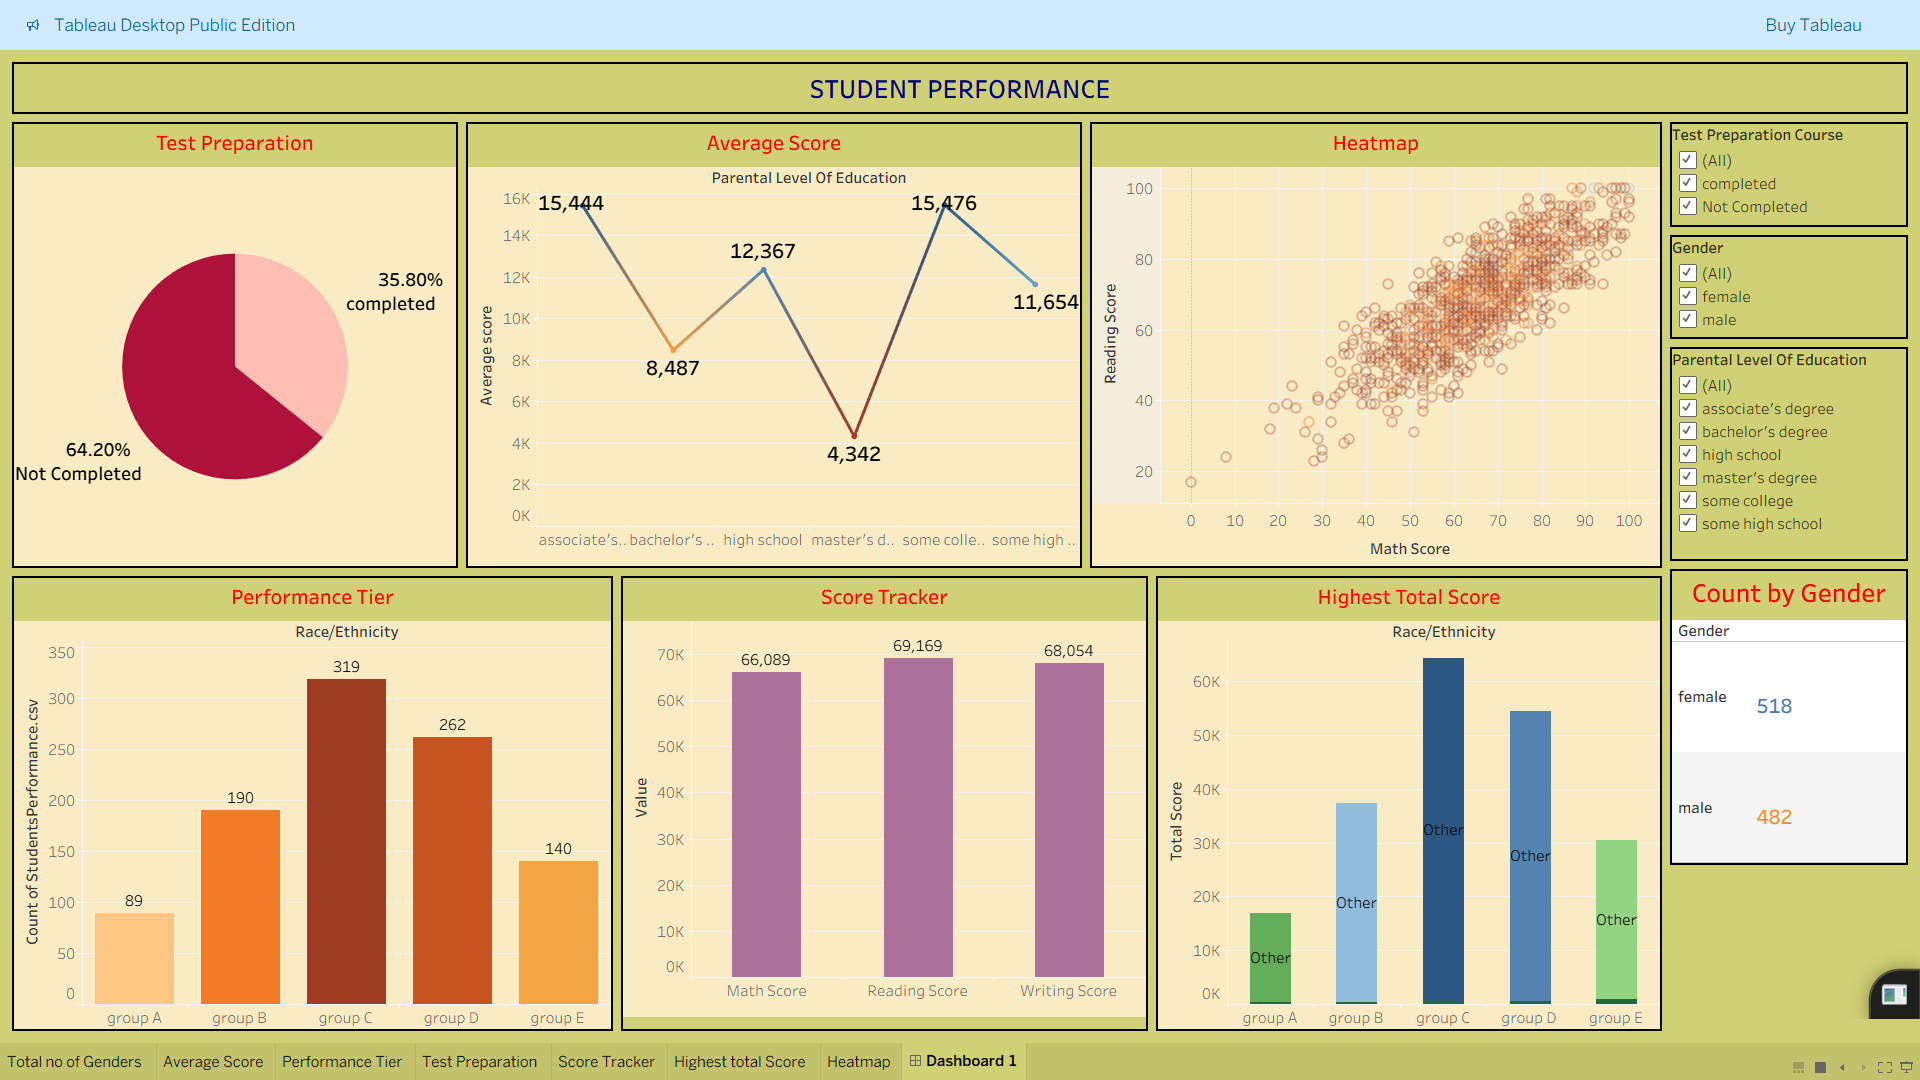

What the dashboard file says about the page in this screenshot:
{"tool":"tableau","page":{"name":"Dashboard 1","canvas":[1000,1000],"units":"permille","ordinal":0},"visuals":[{"type":"text","box":[4.8,10,990.3,59.9]},{"type":"worksheet","title":"Test Preparation","mark":"Pie","box":[4.8,69.9,230.6,455.5]},{"type":"worksheet","title":"Average Score","mark":"Line","rows":["Calculation_937311726381899777"],"cols":["parental level of education"],"box":[235.4,69.9,316.6,455.5]},{"type":"worksheet","title":"Heatmap","mark":"Automatic","rows":["reading score"],"cols":["math score"],"box":[552,69.9,294.7,455.5]},{"type":"filter","title":"Score Tracker","param":"[federated.1szijvd0w1mof011xjchv1ia1z3t].[none:test preparation course:nk]","box":[846.7,69.9,148.5,141.1]},{"type":"filter","title":"Score Tracker","param":"[federated.1szijvd0w1mof011xjchv1ia1z3t].[none:gender:nk]","box":[846.7,211,148.5,139.8]},{"type":"filter","title":"Heatmap","param":"[federated.1szijvd0w1mof011xjchv1ia1z3t].[none:parental level of education:nk]","box":[846.7,350.8,148.5,277.2]},{"type":"worksheet","title":"Performance Tier","mark":"Automatic","rows":["StudentsPerformance.csv_BF8D1D519E194018B7370D2D645B9C11"],"cols":["race/ethnicity"],"box":[4.8,525.4,309.1,464.6]},{"type":"worksheet","title":"Score Tracker","mark":"Automatic","box":[313.9,525.4,271.7,464.6]},{"type":"worksheet","title":"Highest total Score","mark":"Bar","rows":["Calculation_937311726385561605"],"cols":["race/ethnicity"],"box":[585.6,525.4,261.1,464.6]},{"type":"worksheet","title":"Total no of Genders","mark":"Automatic","rows":["gender"],"box":[846.7,627.9,148.5,362.1]}]}

Visuals, with their boxes on the dashboard's canvas, which has no fixed pixel size, in thousandths of its width and height (x1, y1, x2, y2). These are canvas units, not pixel positions in the 1920x1080 screenshot, which may show the page scaled, cropped or inside an application window:
text: (5, 10, 995, 70)
"Test Preparation" worksheet (Pie marks): (5, 70, 235, 525)
"Average Score" worksheet (Line marks): (235, 70, 552, 525)
"Heatmap" worksheet: (552, 70, 847, 525)
"Score Tracker" filter: (847, 70, 995, 211)
"Score Tracker" filter: (847, 211, 995, 351)
"Heatmap" filter: (847, 351, 995, 628)
"Performance Tier" worksheet: (5, 525, 314, 990)
"Score Tracker" worksheet: (314, 525, 586, 990)
"Highest total Score" worksheet (Bar marks): (586, 525, 847, 990)
"Total no of Genders" worksheet: (847, 628, 995, 990)
